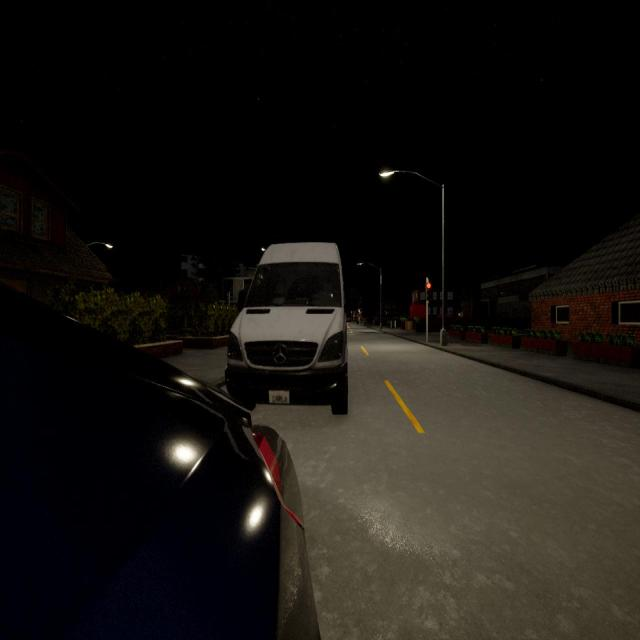Vehicle: (0, 285, 319, 638), (226, 244, 356, 416)
traffic_light: (426, 284, 432, 300)
